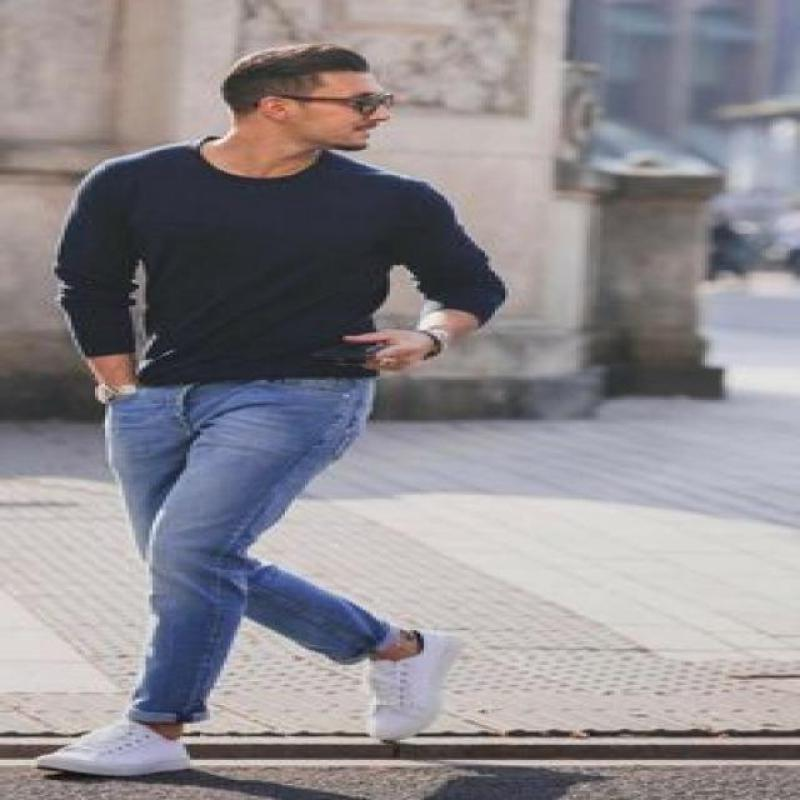sweater: (47, 132, 518, 392)
trousers: (94, 360, 401, 726)
